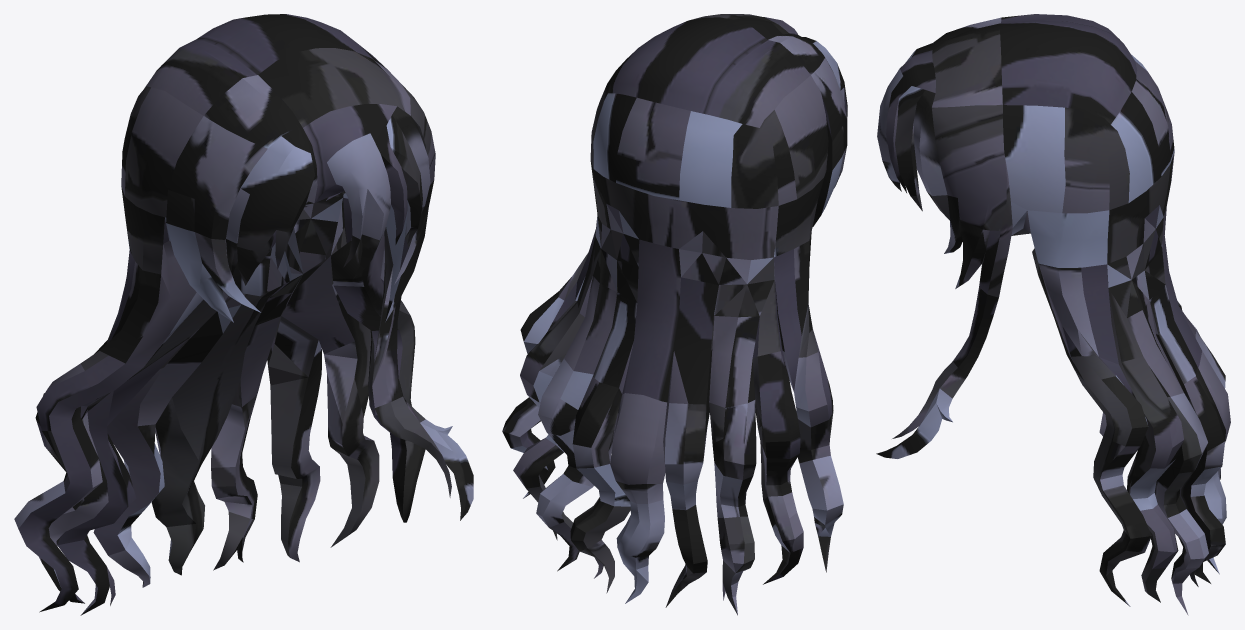
File: Hiar_02.fbx
3 views of the same model, side by side, from view 1: azimuth 30°, elevation 25°; view 2: azimuth 150°, elevation 25°; view 3: azimuth 270°, elevation 25° (orthographic). The views are drawn at different scales.
Visible parts, largest first — view 1: hair029; view 2: hair029; view 3: hair029.
Part boxes in pixels (<box>): hair029: <box>14,14,473,615</box>; hair029: <box>502,14,847,615</box>; hair029: <box>876,14,1230,615</box>.
Bounding box in the file's own units: 16.04 × 23.26 × 13.73.
1 material, 1 textured.
